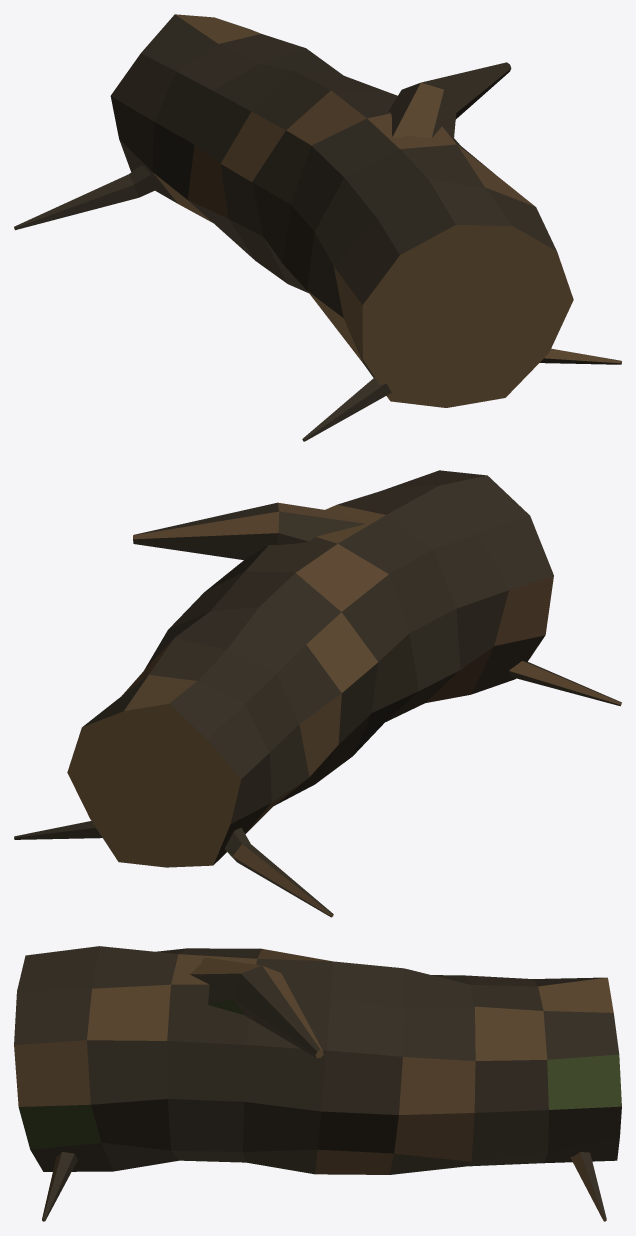
File: wood_001c_broken_fallen_log.glb
The picture shows the model from 3 angles, top to bottom: view 1: azimuth 30°, elevation 25°; view 2: azimuth 150°, elevation 25°; view 3: azimuth 270°, elevation 25°; orthographic projection. The views are drawn at different scales.
Visible parts, largest first — view 1: wood_001c_broken_fallen_log__mesh; view 2: wood_001c_broken_fallen_log__mesh; view 3: wood_001c_broken_fallen_log__mesh.
Boxes of the visible parts, x1,y1,x2,y2 form: wood_001c_broken_fallen_log__mesh: [14, 14, 621, 441]; wood_001c_broken_fallen_log__mesh: [14, 470, 621, 917]; wood_001c_broken_fallen_log__mesh: [14, 946, 621, 1221].
Bounding box in the file's own units: 2.89 × 1.82 × 4.5.
